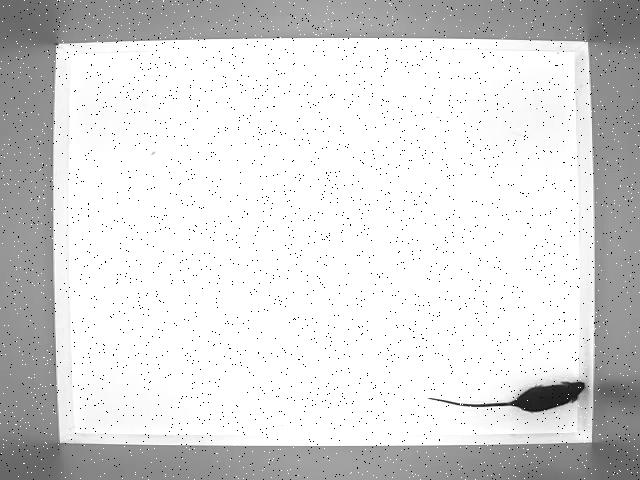Tikus: (424, 371, 588, 421)
